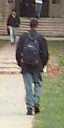person: (16, 14, 46, 120)
